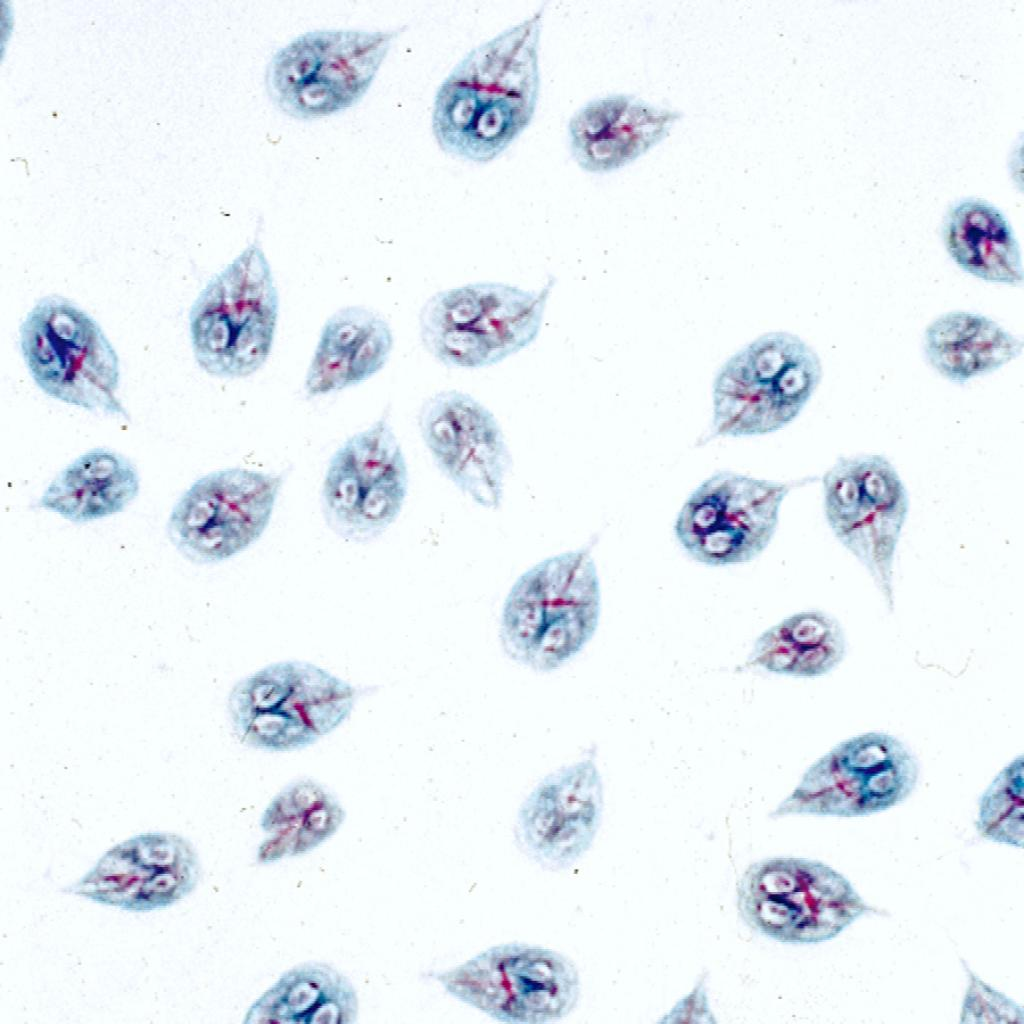Giardia: (20, 282, 134, 430), (766, 726, 922, 833), (429, 11, 543, 157), (182, 214, 280, 375), (494, 534, 606, 674), (820, 451, 912, 612), (701, 328, 825, 442), (434, 930, 583, 1024), (734, 846, 875, 944), (226, 658, 379, 748), (260, 21, 400, 116), (512, 749, 610, 878), (168, 455, 280, 564), (419, 387, 512, 514), (64, 826, 204, 910), (672, 466, 788, 564), (418, 278, 550, 362), (321, 418, 409, 542), (25, 444, 141, 532), (934, 186, 1024, 296), (301, 296, 395, 400), (561, 93, 683, 171), (252, 776, 352, 869), (736, 603, 849, 685), (239, 949, 362, 1024), (922, 305, 1024, 389), (974, 748, 1024, 856), (958, 949, 1024, 1024), (651, 969, 726, 1024)
